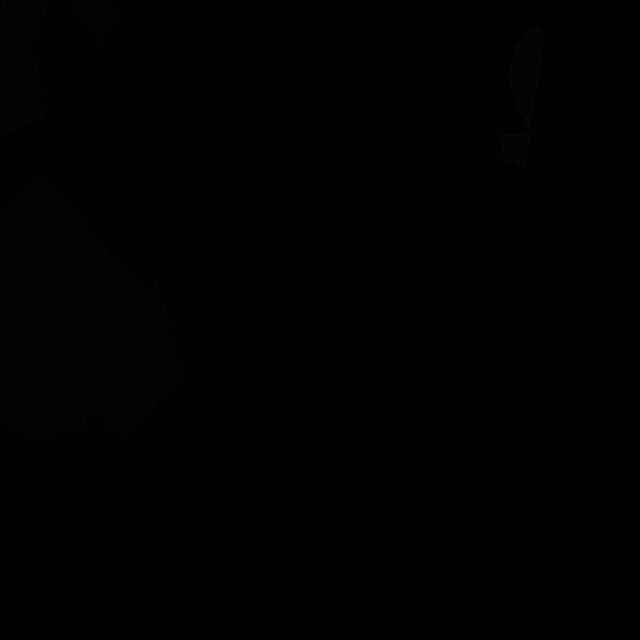cardboard: (0, 176, 186, 445), (0, 0, 115, 140)
soft_plastic: (508, 26, 545, 134), (498, 134, 530, 169)
